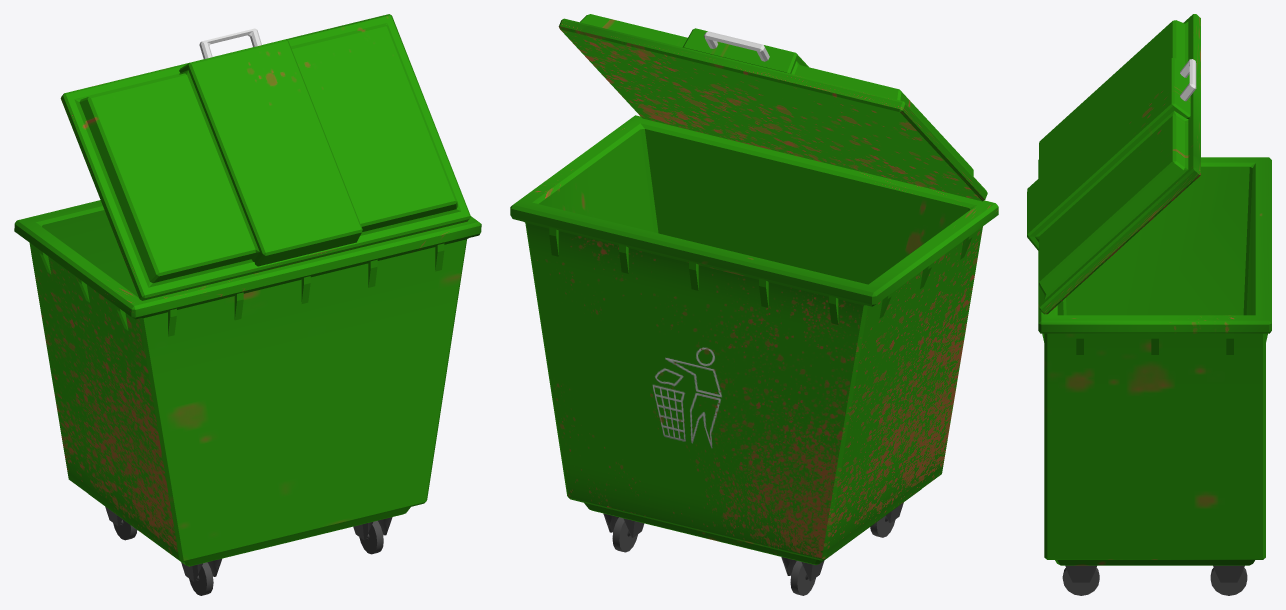
The model's file is GarbageContainer.fbx.
3 views of the same model, side by side, from view 1: azimuth 30°, elevation 25°; view 2: azimuth 150°, elevation 25°; view 3: azimuth 270°, elevation 25° (orthographic). The views are drawn at different scales.
Visible parts, largest first — view 1: GarbageContainer, ContainerCover, Wheels; view 2: GarbageContainer, ContainerCover, Wheels; view 3: GarbageContainer, ContainerCover, Wheels.
Boxes of the visible parts, left/top/right/bottom form: GarbageContainer: left=14, top=200, right=481, bottom=566; ContainerCover: left=60, top=14, right=470, bottom=300; Wheels: left=105, top=506, right=392, bottom=595; GarbageContainer: left=510, top=115, right=998, bottom=565; ContainerCover: left=558, top=14, right=987, bottom=201; Wheels: left=603, top=502, right=903, bottom=595; GarbageContainer: left=1038, top=157, right=1271, bottom=565; ContainerCover: left=1027, top=14, right=1200, bottom=314; Wheels: left=1062, top=565, right=1247, bottom=595.
Bounding box in the file's own units: 426 × 577 × 265.
4 materials, 2 textured.
